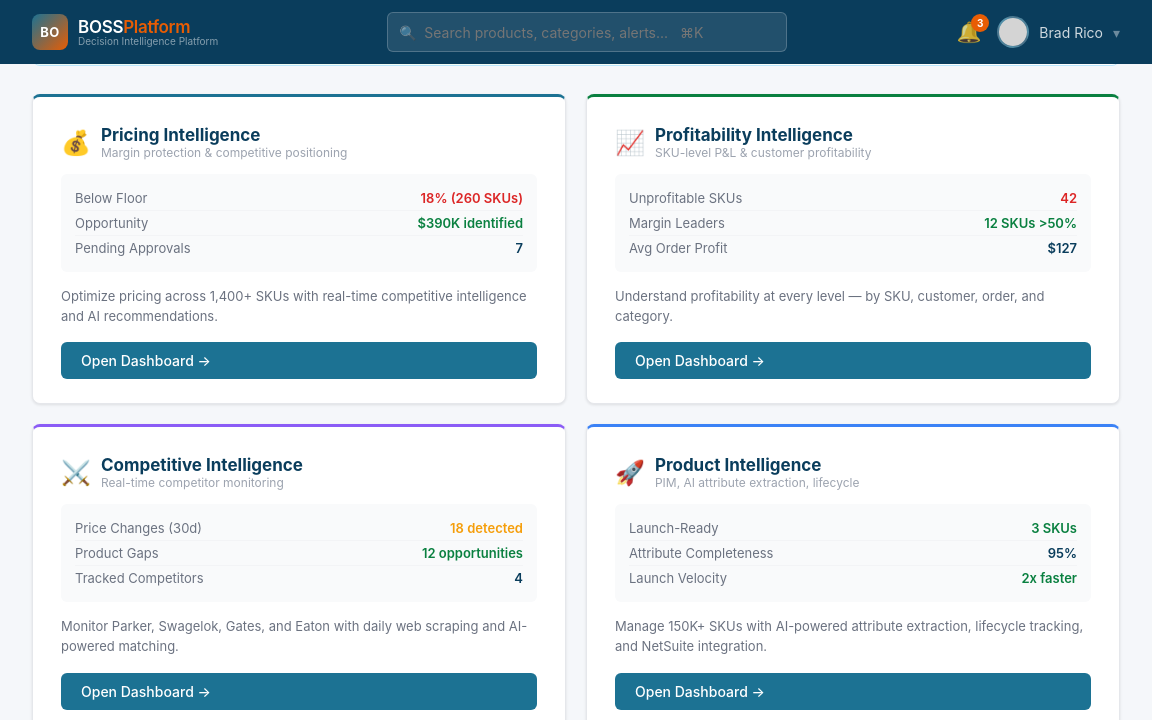
Test: Pricing Dashboard (from Home) › sorts table columns
(page scrolled)
Click the button "Open Dashboard →" below "Pending Approvals" at [146, 361], box [61, 342, 537, 379]
(page scrolled)
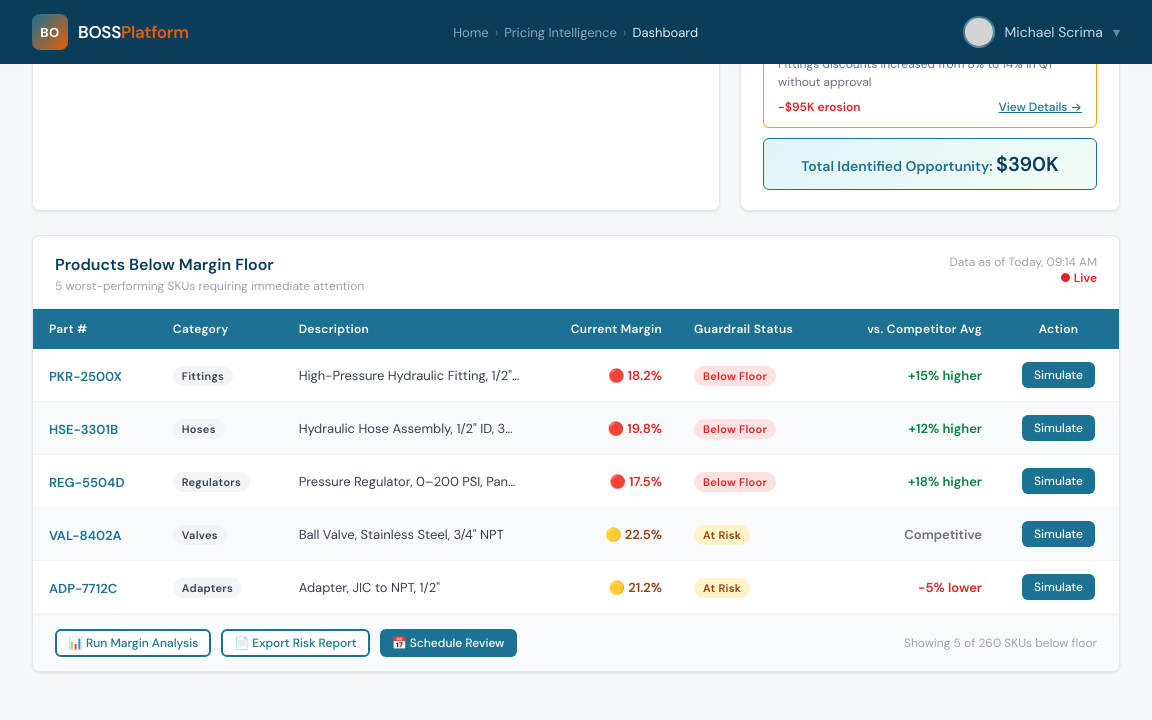
Click the column heading "Current Margin" at [607, 329], box [536, 309, 678, 349]
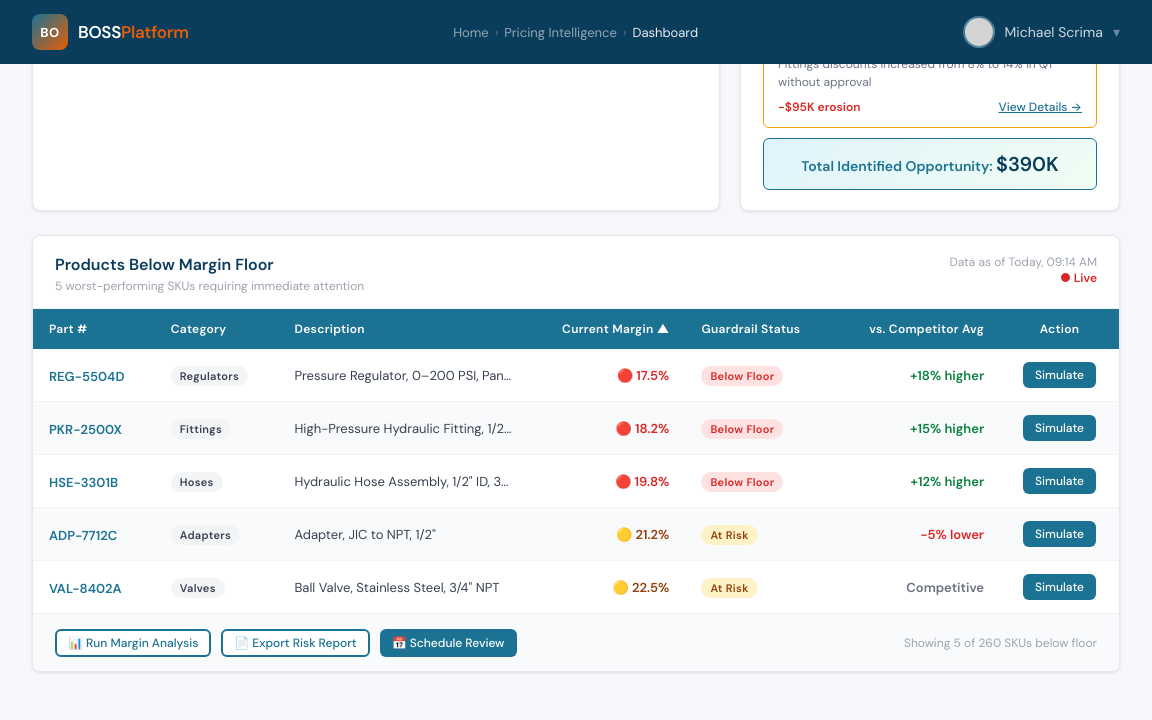
Now the column heading "Current Margin ▲" is shown, box [528, 309, 685, 349]
